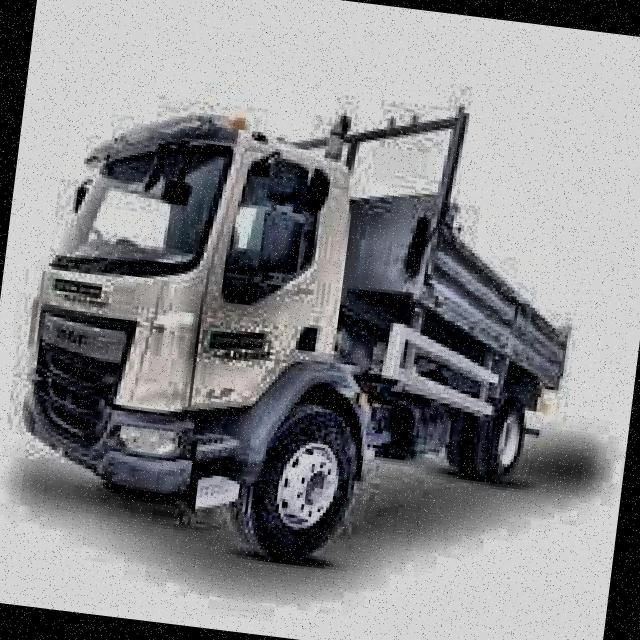dump_truck: (0, 74, 596, 594)
